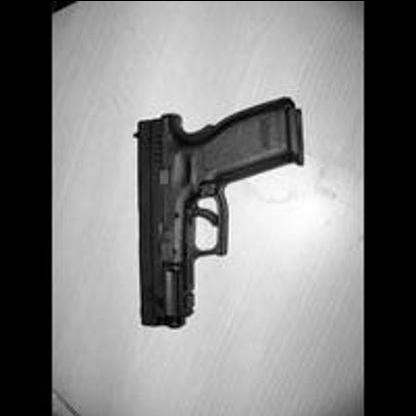weapon: (127, 92, 306, 332)
